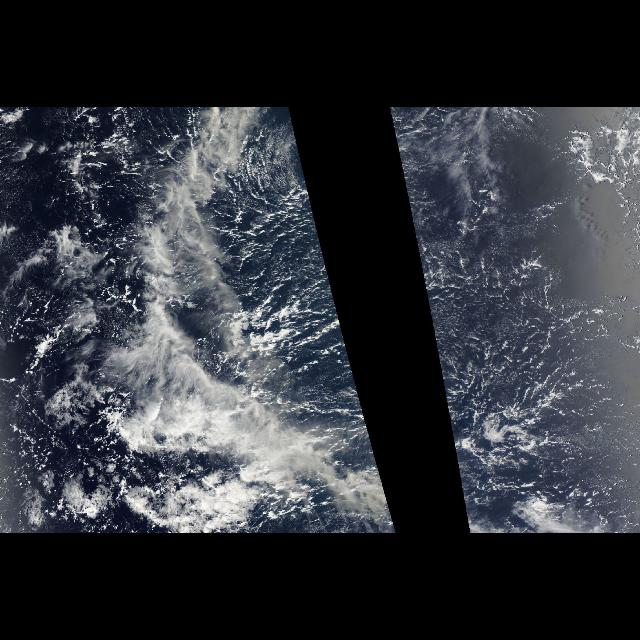Gravel: (399, 155, 629, 469), (244, 155, 380, 469), (17, 378, 128, 526)
